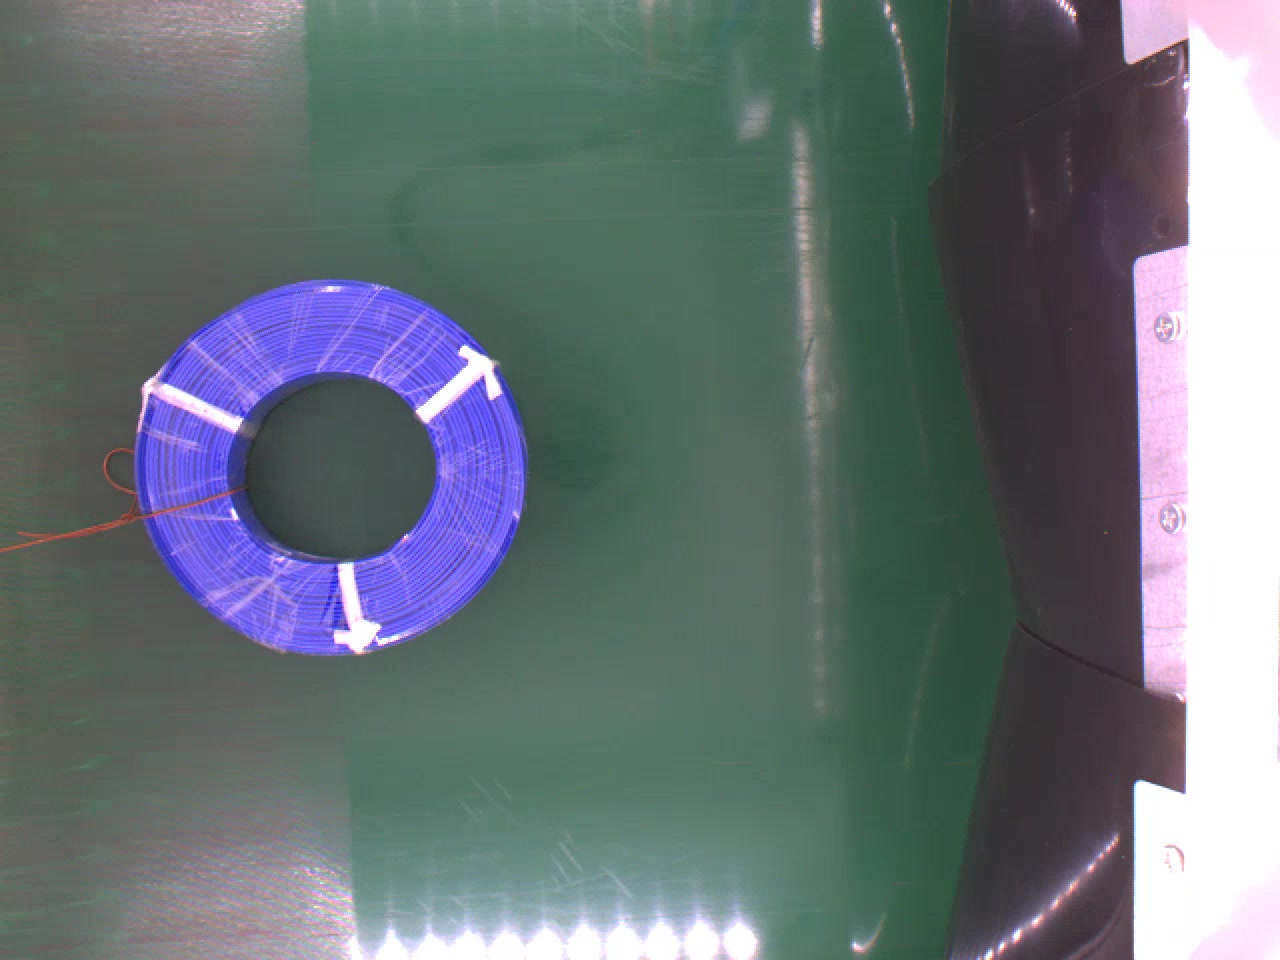blue: (135, 281, 527, 654)
